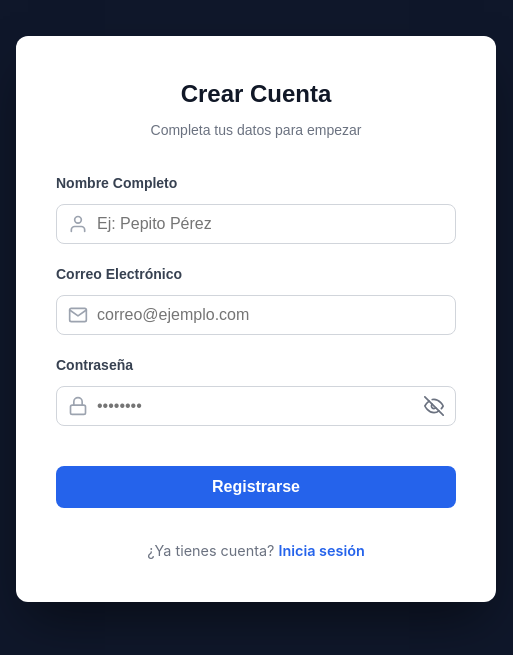
it: RegisterPage › muestra mensaje de error cuando la API falla
In the field labelled "Nombre Completo": (256, 224) [56,204,456,244], type "Adrián"
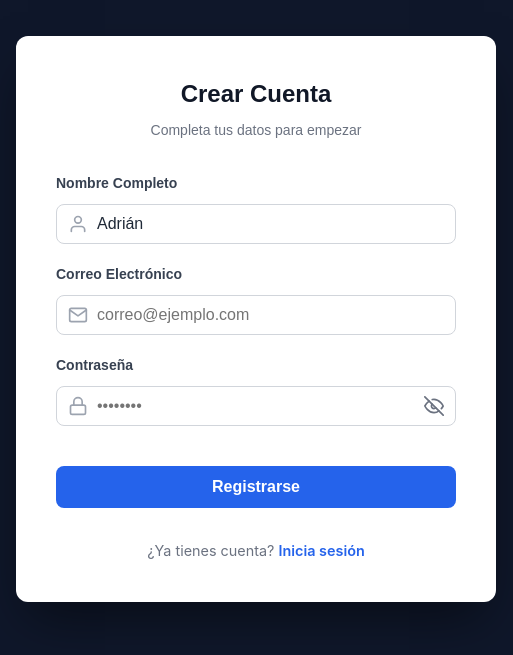
In the field labelled "Correo Electrónico": (256, 315) [56,295,456,335], type "adrian@test.com"
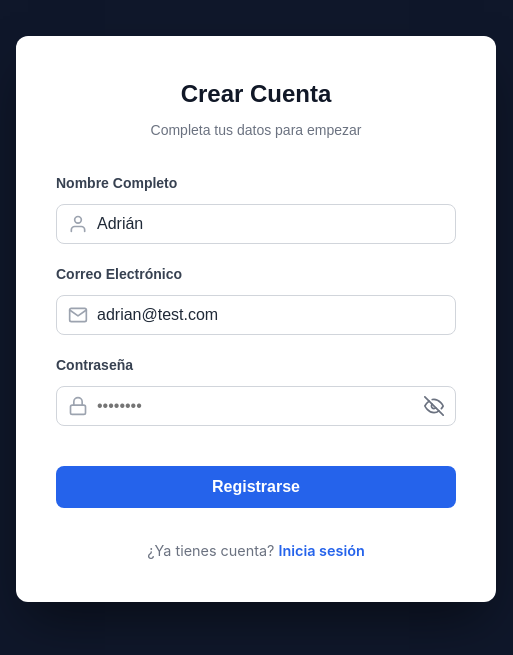
In the password field labelled "Contraseña": (256, 406) [56,386,456,426], type "123456"
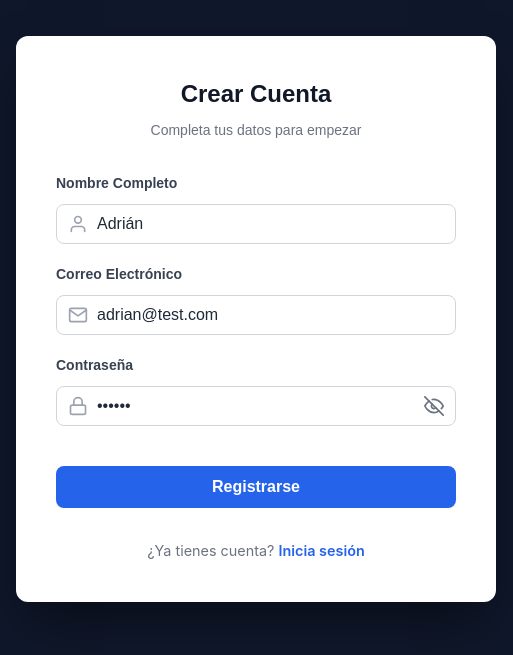
Click the button "Registrarse": (256, 487) [56,466,456,508]
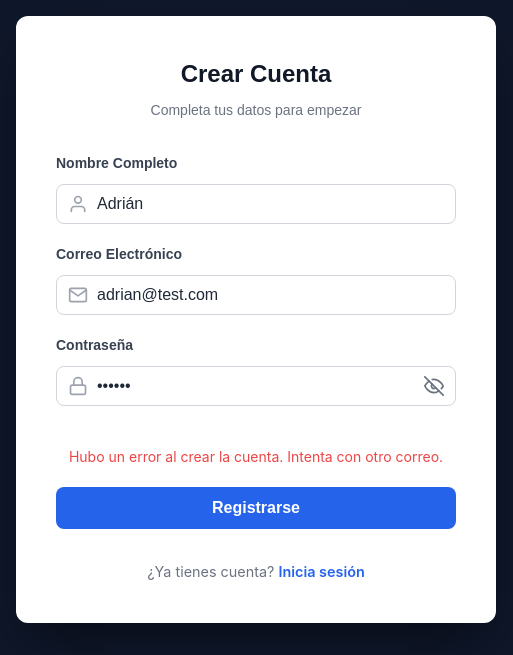
Check: the text "Hubo un error al crear la cuenta. Intenta con otro correo." is shown, box [56,446,456,466]
